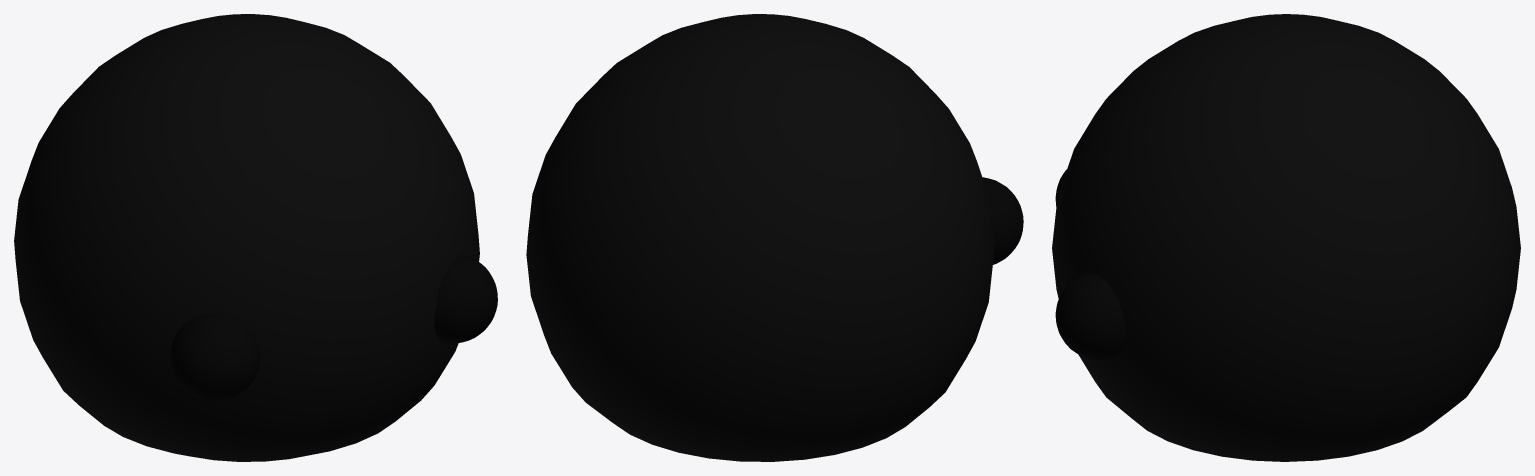
The model's file is coco butter.glb.
3 renders of one model, left to right at view 1: azimuth 30°, elevation 25°; view 2: azimuth 150°, elevation 25°; view 3: azimuth 270°, elevation 25°, orthographic.
Visible parts, largest first — view 1: Sphere, Sphere.001; view 2: Sphere, Sphere.001; view 3: Sphere, Sphere.001.
Part boxes in pixels (x1,y1,x2,y2): Sphere: (14, 14, 479, 461); Sphere.001: (170, 255, 497, 401); Sphere: (526, 14, 994, 461); Sphere.001: (982, 177, 1023, 264); Sphere: (1052, 14, 1520, 461); Sphere.001: (1055, 169, 1126, 360).
Bounding box in the file's own units: 2 × 1.79 × 2.
2 materials, 1 textured.
